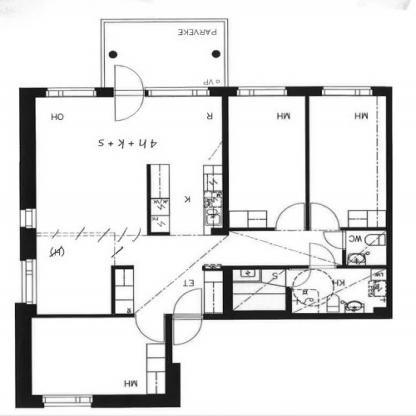door: (169, 286, 206, 350), (109, 64, 148, 124), (167, 283, 206, 316), (166, 317, 207, 348), (110, 90, 147, 123), (272, 200, 308, 233), (110, 63, 146, 95), (310, 201, 344, 232), (305, 242, 338, 268), (282, 267, 312, 288), (321, 229, 350, 250)
window: (34, 386, 100, 414), (11, 256, 44, 309), (144, 82, 213, 102), (233, 81, 294, 102), (317, 81, 377, 100), (44, 83, 100, 101), (13, 205, 44, 234)
